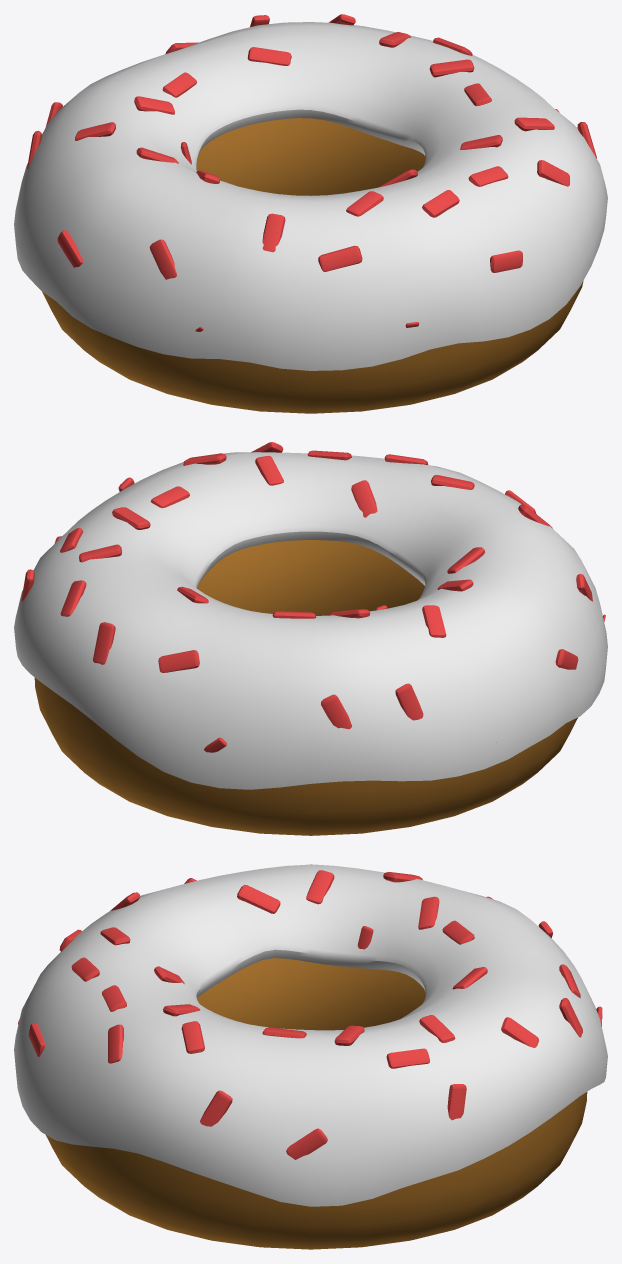
File: BoardPieces_002.fbx
The picture shows the model from 3 angles, top to bottom: view 1: azimuth 30°, elevation 25°; view 2: azimuth 150°, elevation 25°; view 3: azimuth 270°, elevation 25°; orthographic projection.
Visible parts, largest first — view 1: BoardPieces_002; view 2: BoardPieces_002; view 3: BoardPieces_002.
Part boxes in pixels (<box>): BoardPieces_002: <box>14,14,607,413</box>; BoardPieces_002: <box>14,442,607,835</box>; BoardPieces_002: <box>14,864,607,1249</box>.
Size of the model in its own units: 8.01 by 3.11 by 8.01.
